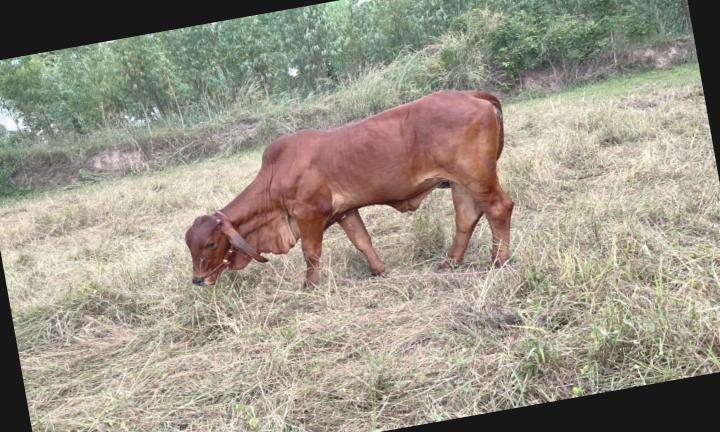Brahman: (185, 90, 513, 285)
